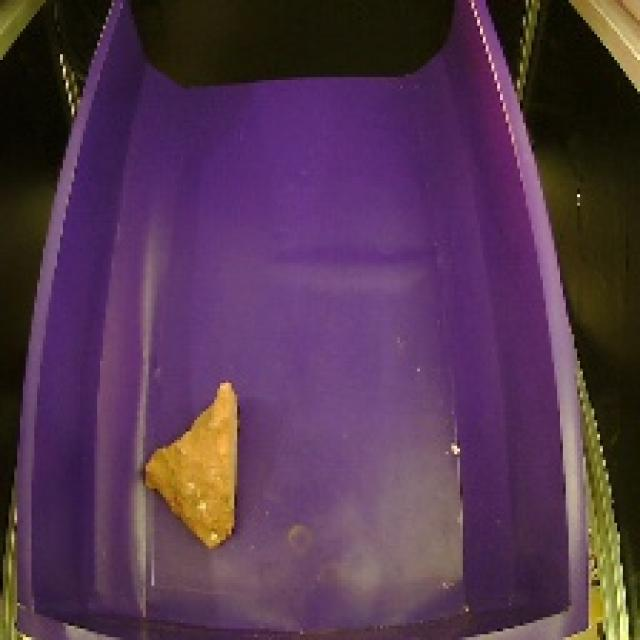brick: (132, 373, 256, 555)
